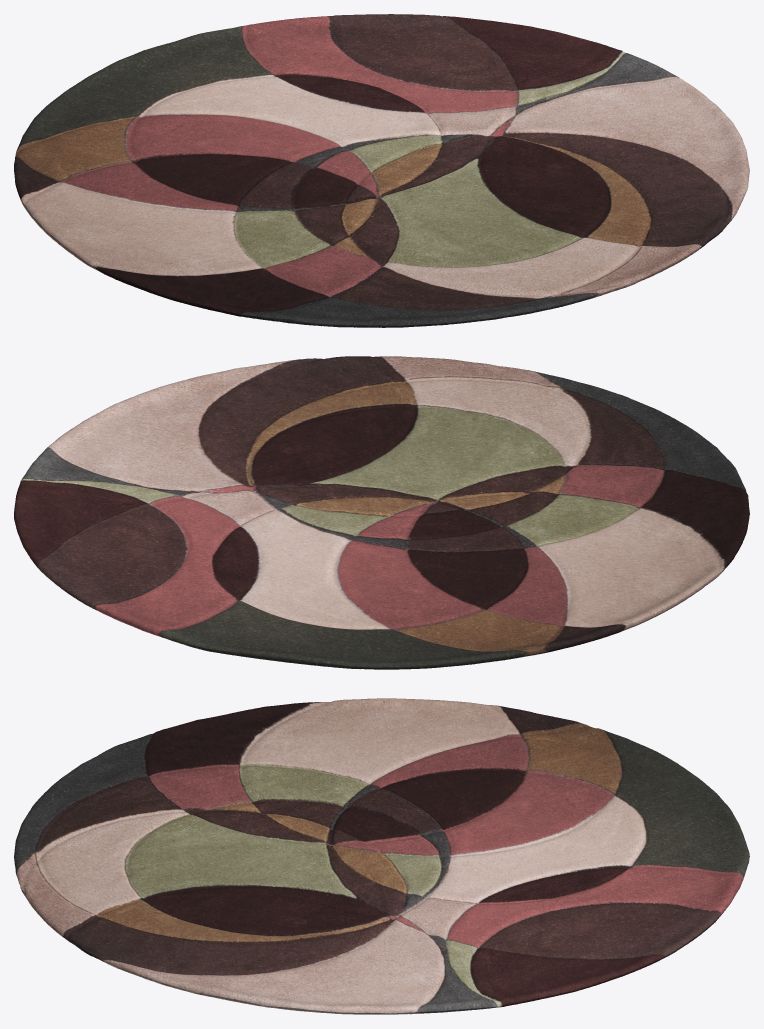
Rendered from library-carpet.glb.
3 views of the same model, one above another, from view 1: azimuth 30°, elevation 25°; view 2: azimuth 150°, elevation 25°; view 3: azimuth 270°, elevation 25° (orthographic).
Visible parts, largest first — view 1: Carpet_13_0003_0001_Carpet_13_0003_mat_001_FBX_0; view 2: Carpet_13_0003_0001_Carpet_13_0003_mat_001_FBX_0; view 3: Carpet_13_0003_0001_Carpet_13_0003_mat_001_FBX_0.
Boxes of the visible parts, x1=… form: Carpet_13_0003_0001_Carpet_13_0003_mat_001_FBX_0: x1=14, y1=14, x2=749, y2=327; Carpet_13_0003_0001_Carpet_13_0003_mat_001_FBX_0: x1=14, y1=356, x2=749, y2=669; Carpet_13_0003_0001_Carpet_13_0003_mat_001_FBX_0: x1=14, y1=698, x2=749, y2=1014.
Bounding box in the file's own units: 1.5 × 0.0193 × 1.5.
Materials: 1 (1 with a texture image).
